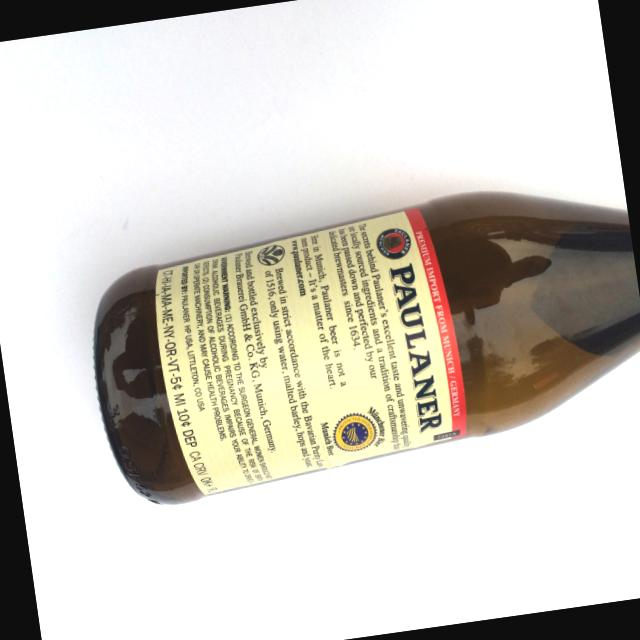Glass: (70, 163, 640, 527)
